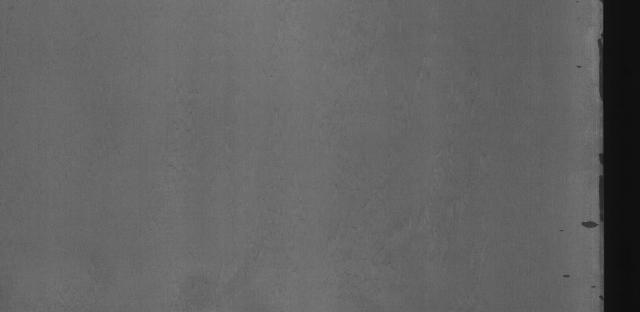oil_spot: (591, 152, 604, 218), (580, 213, 602, 236), (597, 37, 604, 106)
